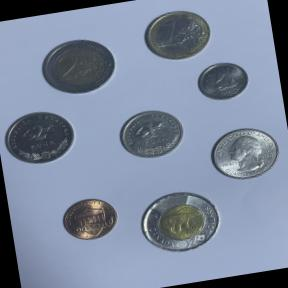coin: (132, 184, 228, 260), (33, 32, 124, 101), (203, 119, 288, 185), (0, 103, 83, 170), (136, 1, 218, 66), (56, 192, 124, 245), (192, 57, 254, 104)
